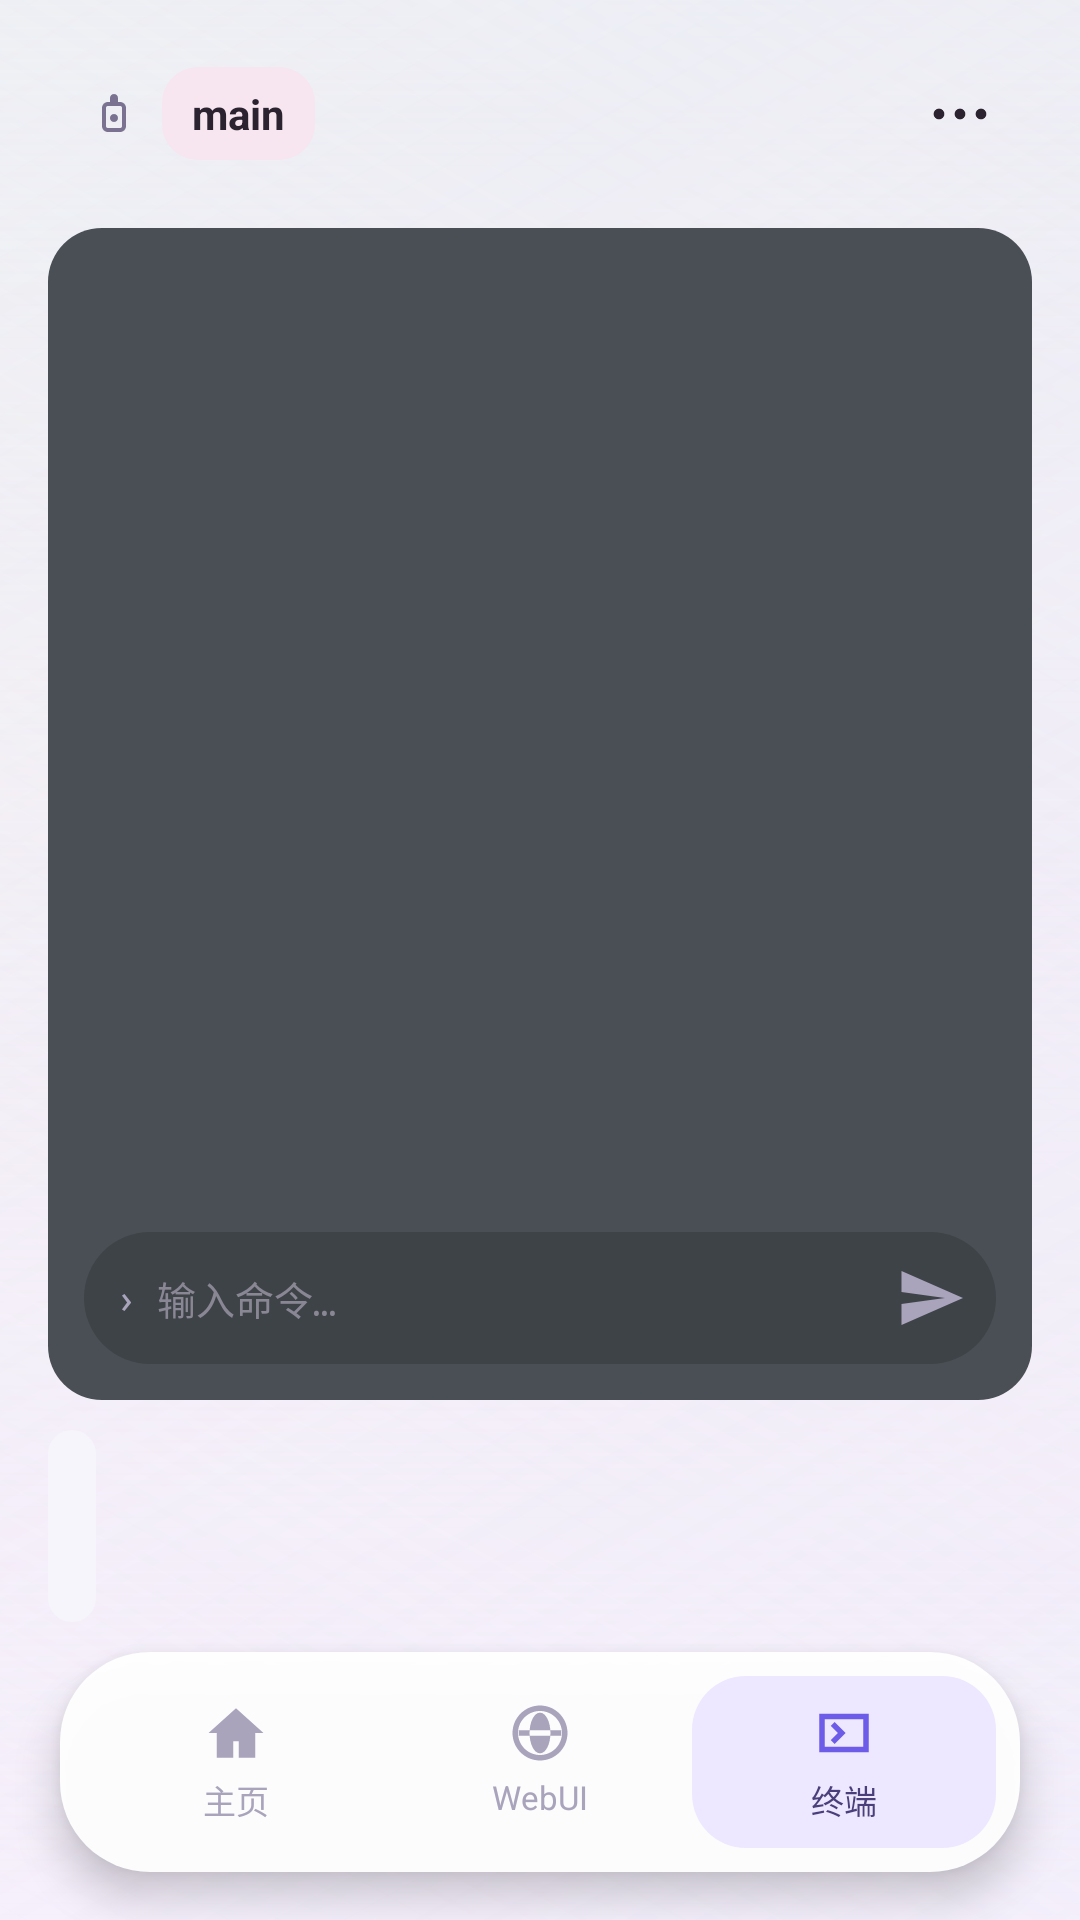

Where to tap for icons on this 1080 × 1920 app screen, as point (x, y):
globe: point (540, 1733)
发送: point (932, 1298)
更多: point (960, 114)
